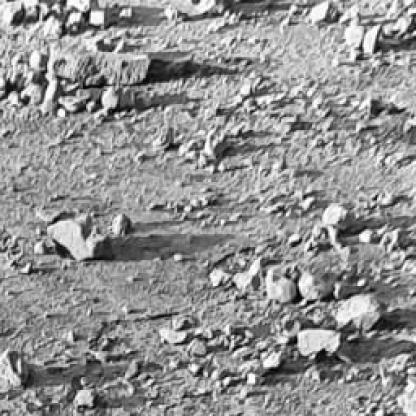cementitious_debris: (147, 69, 409, 164), (204, 259, 384, 358), (158, 314, 284, 399), (0, 51, 151, 115), (274, 2, 414, 70), (22, 210, 129, 272), (3, 2, 136, 36), (68, 382, 100, 408)
